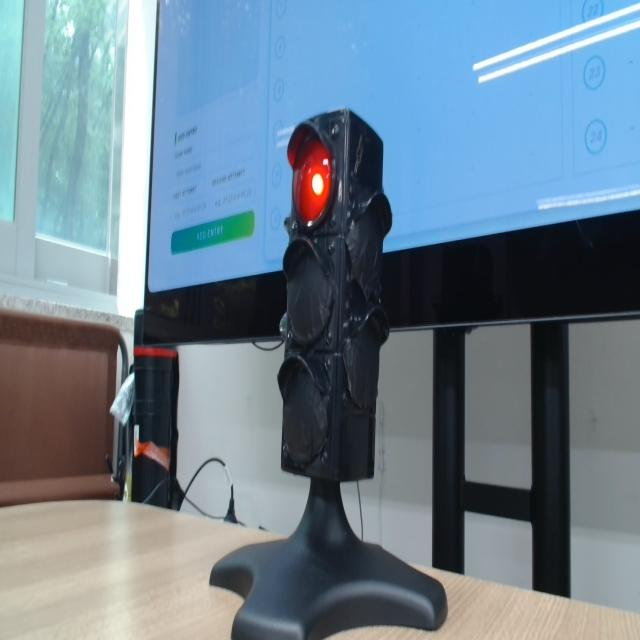red_light: (293, 139, 331, 226)
